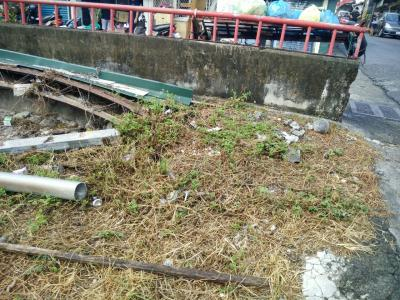plastic_bag: (298, 3, 321, 24), (268, 1, 290, 19)
